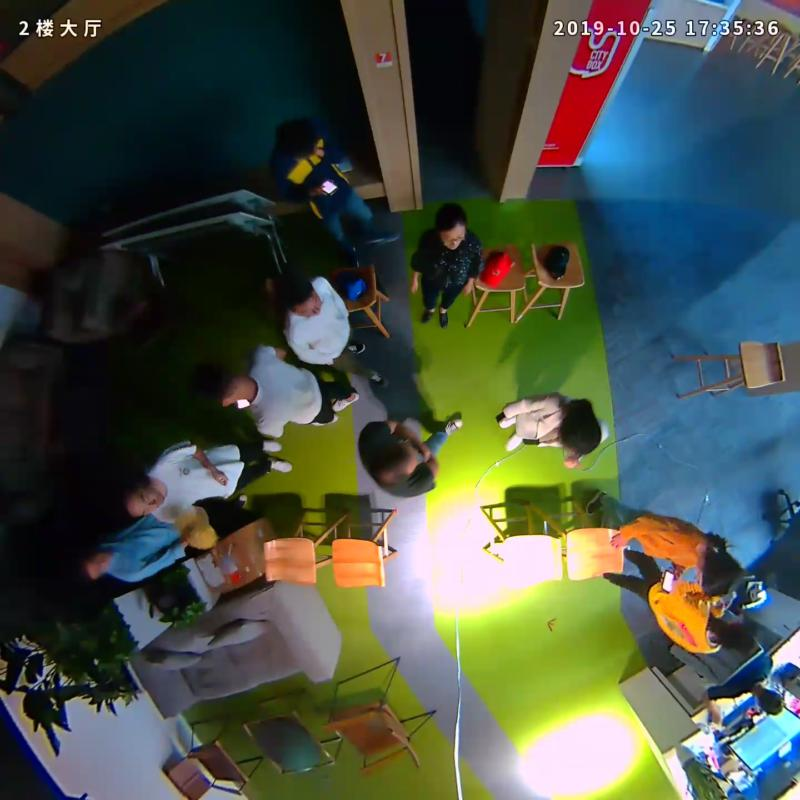head: (369, 438, 419, 487), (190, 366, 248, 407), (108, 478, 166, 517), (696, 547, 743, 595), (557, 406, 601, 457), (276, 272, 324, 318), (718, 611, 761, 654), (64, 548, 117, 582), (279, 122, 320, 161), (436, 203, 467, 250)
